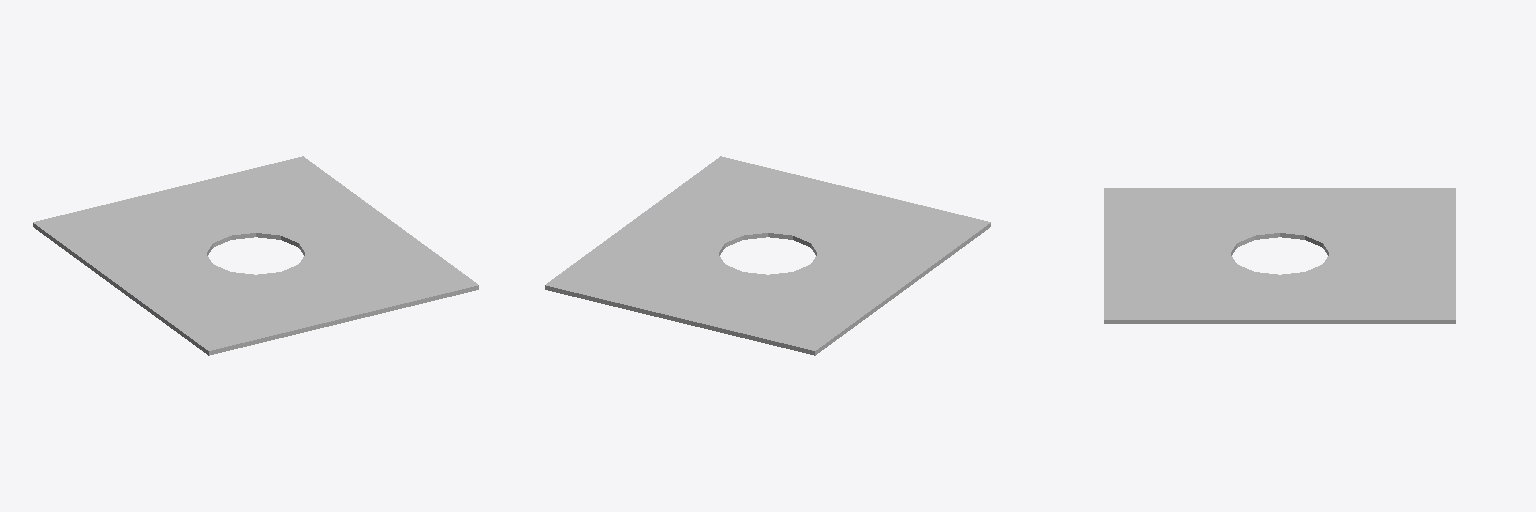
Rendered from pit_floor.obj.
3 renders of one model, left to right at view 1: azimuth 30°, elevation 25°; view 2: azimuth 150°, elevation 25°; view 3: azimuth 270°, elevation 25°, orthographic.
Parts seen in each view (by area): view 1: PitFloor; view 2: PitFloor; view 3: PitFloor.
Boxes of the visible parts, x1=… form: PitFloor: x1=33, y1=156, x2=478, y2=355; PitFloor: x1=545, y1=156, x2=990, y2=355; PitFloor: x1=1104, y1=188, x2=1455, y2=323.
Size of the model in its own units: 126 by 2 by 142.